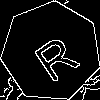R: (26, 26, 81, 84)
